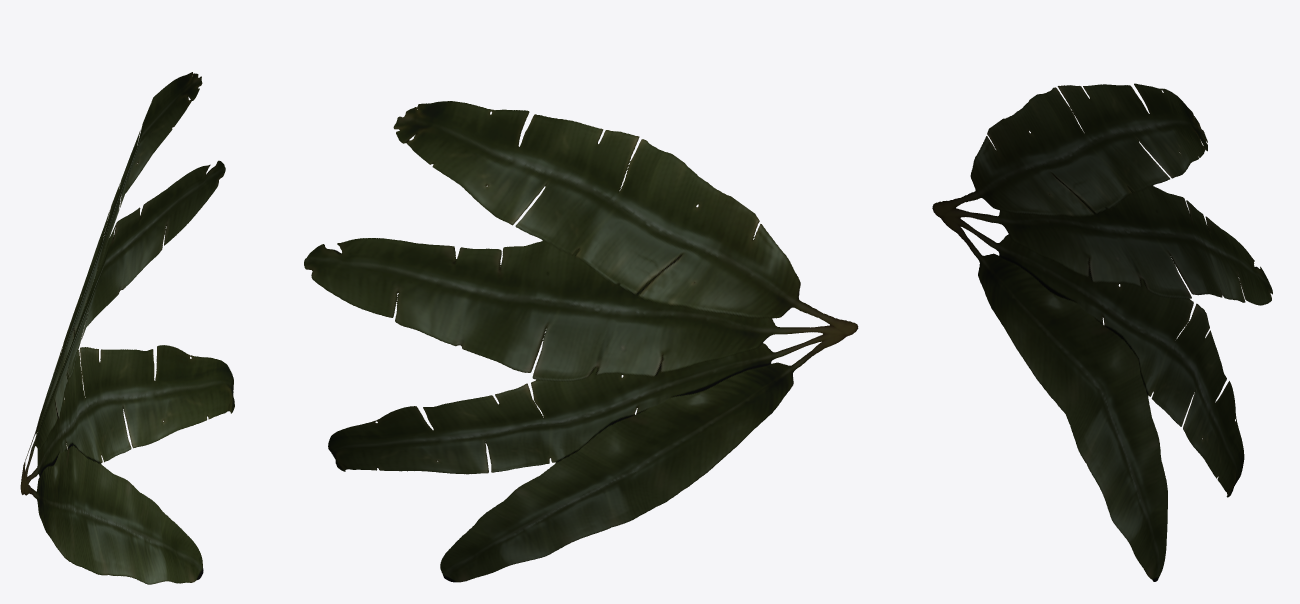
Rendered from MEP_Palm_Part_01_S.fbx.
3 renders of one model, left to right at view 1: azimuth 30°, elevation 25°; view 2: azimuth 150°, elevation 25°; view 3: azimuth 270°, elevation 25°, orthographic. The views are drawn at different scales.
Visible parts, largest first — view 1: MEP_Palm_Part_01_S; view 2: MEP_Palm_Part_01_S; view 3: MEP_Palm_Part_01_S.
Part boxes in pixels (x1=…): MEP_Palm_Part_01_S: x1=20, y1=72, x2=234, y2=584; MEP_Palm_Part_01_S: x1=304, y1=101, x2=858, y2=582; MEP_Palm_Part_01_S: x1=932, y1=83, x2=1272, y2=581.
Bounding box in the file's own units: 1.34 × 1.78 × 1.06.
